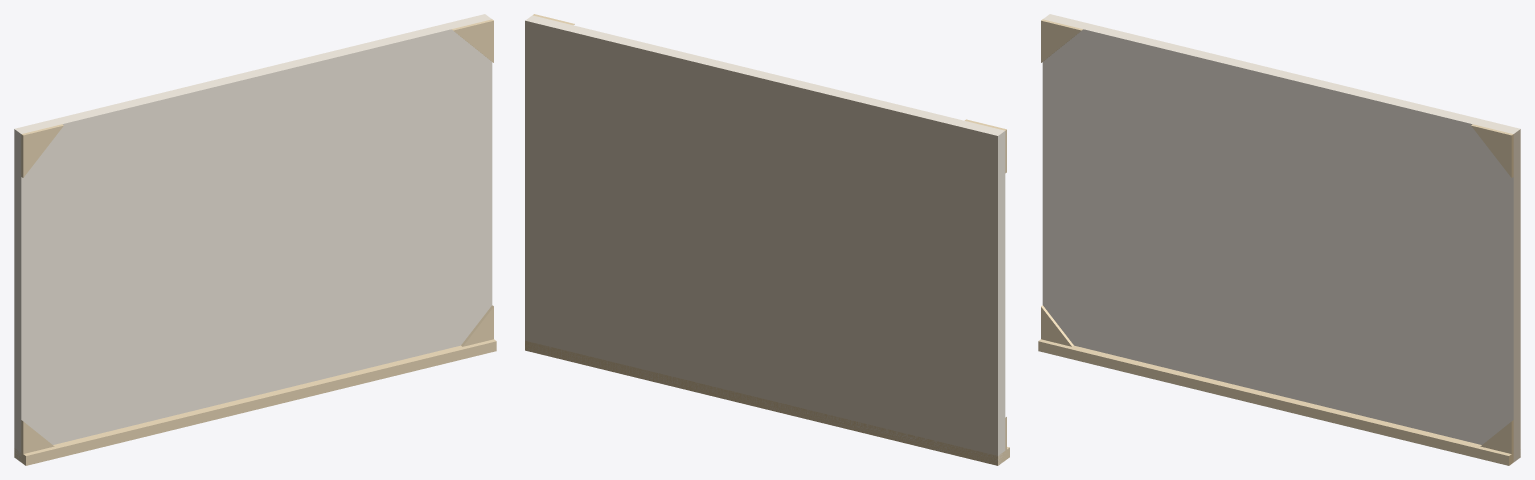
File: paper_panel.glb
3 renders of one model, left to right at view 1: azimuth 30°, elevation 25°; view 2: azimuth 150°, elevation 25°; view 3: azimuth 330°, elevation 25°, orthographic.
Parts seen in each view (by area): view 1: panel; view 2: panel; view 3: panel.
Boxes of the visible parts, left/top/right/bottom form: panel: left=14, top=14, right=496, bottom=465; panel: left=525, top=14, right=1009, bottom=465; panel: left=1038, top=14, right=1520, bottom=465.
Bounding box in the file's own units: 0.3 × 0.2 × 0.013.
